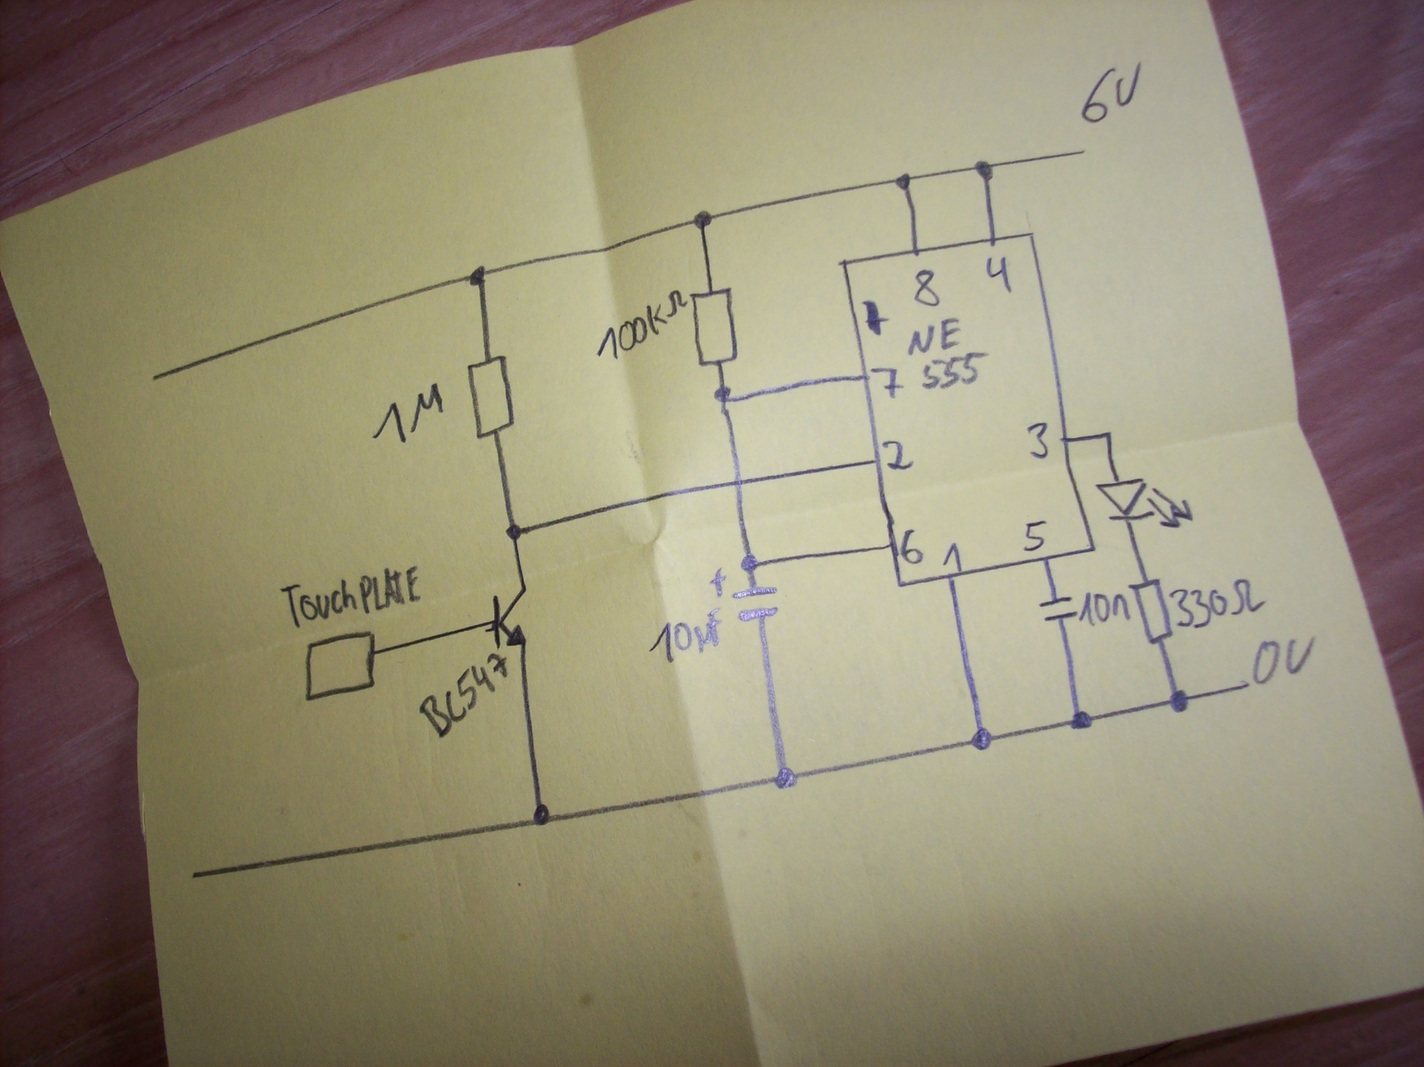capacitor.polarized: (709, 568, 781, 623)
capacitor.unpolarized: (1037, 594, 1078, 625)
crossover: (729, 473, 750, 492)
diode.light_emitting: (1093, 477, 1195, 531)
integrated_cricuit.ne555: (837, 229, 1096, 588)
junction: (713, 386, 738, 414), (774, 766, 798, 792), (969, 727, 994, 752), (972, 159, 996, 184), (1069, 709, 1095, 732), (1167, 689, 1190, 714), (467, 265, 488, 289), (531, 802, 552, 827), (692, 208, 714, 231), (739, 553, 762, 573), (894, 171, 913, 191), (504, 525, 524, 542), (1101, 429, 1115, 442)
resistor: (466, 353, 516, 440), (690, 286, 741, 368), (1128, 577, 1174, 646)
terminal: (303, 629, 380, 703), (186, 867, 205, 882), (146, 370, 165, 384), (1074, 145, 1090, 161), (1239, 679, 1254, 693)
text: (279, 564, 424, 630), (418, 652, 510, 739), (595, 289, 688, 360), (905, 316, 990, 391), (1169, 577, 1269, 630), (646, 605, 725, 664), (371, 382, 445, 444), (1080, 61, 1143, 124), (1250, 635, 1318, 686), (1077, 591, 1133, 628), (912, 268, 942, 309), (871, 365, 904, 400), (879, 438, 915, 471), (985, 256, 1015, 294), (1025, 420, 1052, 460), (900, 528, 927, 565), (1022, 519, 1048, 553), (941, 541, 964, 572)
transistor: (484, 585, 532, 650)
